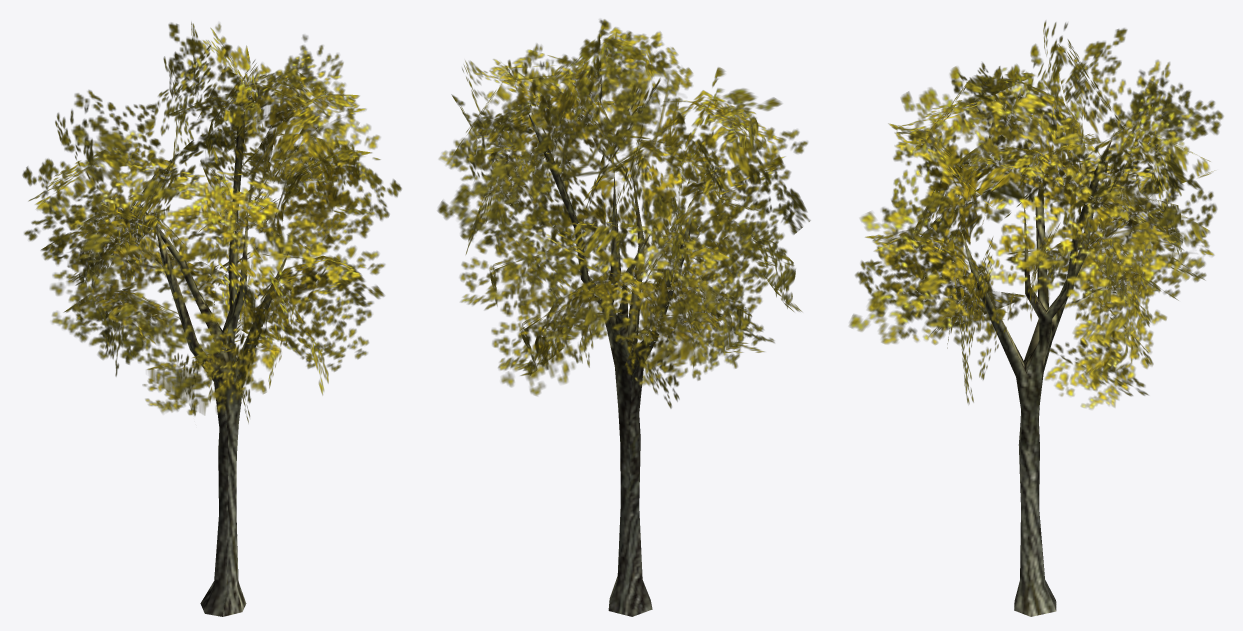
Rendered from huangshu.obj.
The picture shows the model from 3 angles, left to right: view 1: azimuth 30°, elevation 25°; view 2: azimuth 150°, elevation 25°; view 3: azimuth 270°, elevation 25°; orthographic projection. The views are drawn at different scales.
Parts seen in each view (by area): view 1: AM113_063_Tilia01; view 2: AM113_063_Tilia01; view 3: AM113_063_Tilia01.
Part boxes in pixels (x1=…): AM113_063_Tilia01: x1=22, y1=22, x2=401, y2=616; AM113_063_Tilia01: x1=437, y1=19, x2=810, y2=616; AM113_063_Tilia01: x1=849, y1=21, x2=1223, y2=616.
Size of the model in its own units: 327 by 524 by 304.
Materials: 1 (1 with a texture image).
